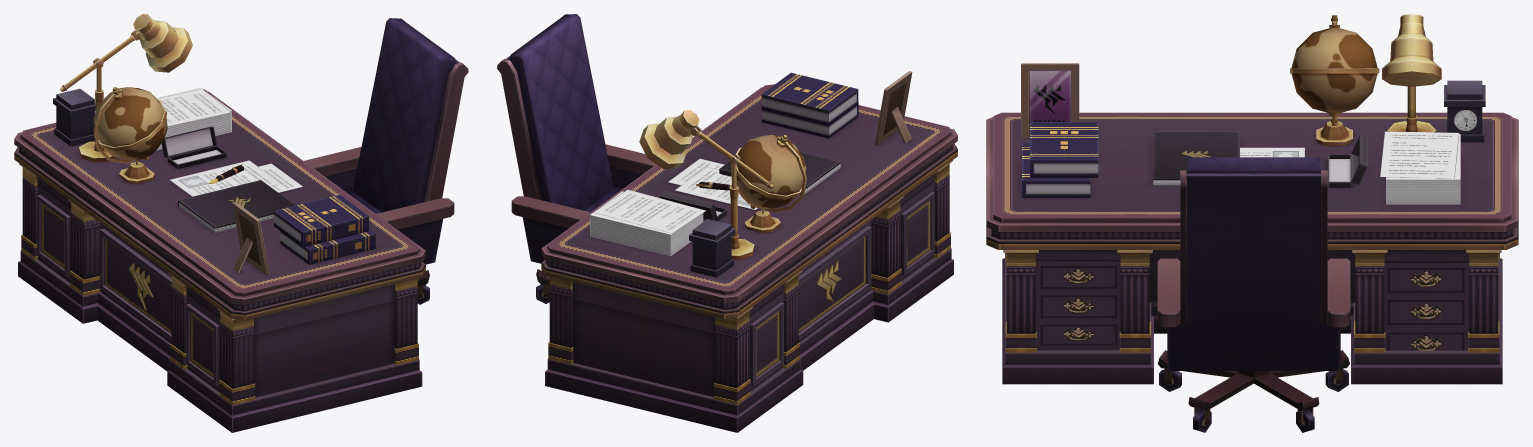
File: my_gehennaparty_01_desk_01.glb
3 renders of one model, left to right at view 1: azimuth 30°, elevation 25°; view 2: azimuth 150°, elevation 25°; view 3: azimuth 270°, elevation 25°, orthographic. The views are drawn at different scales.
Parts seen in each view (by area): view 1: my_gehennaparty_01_desk_01; view 2: my_gehennaparty_01_desk_01; view 3: my_gehennaparty_01_desk_01.
Boxes of the visible parts, <box> form: my_gehennaparty_01_desk_01: <box>14,14,468,432</box>; my_gehennaparty_01_desk_01: <box>497,14,957,432</box>; my_gehennaparty_01_desk_01: <box>986,14,1518,432</box>.
Size of the model in its own units: 0.00982 by 0.008 by 0.0123.
Materials: 1 (1 with a texture image).
